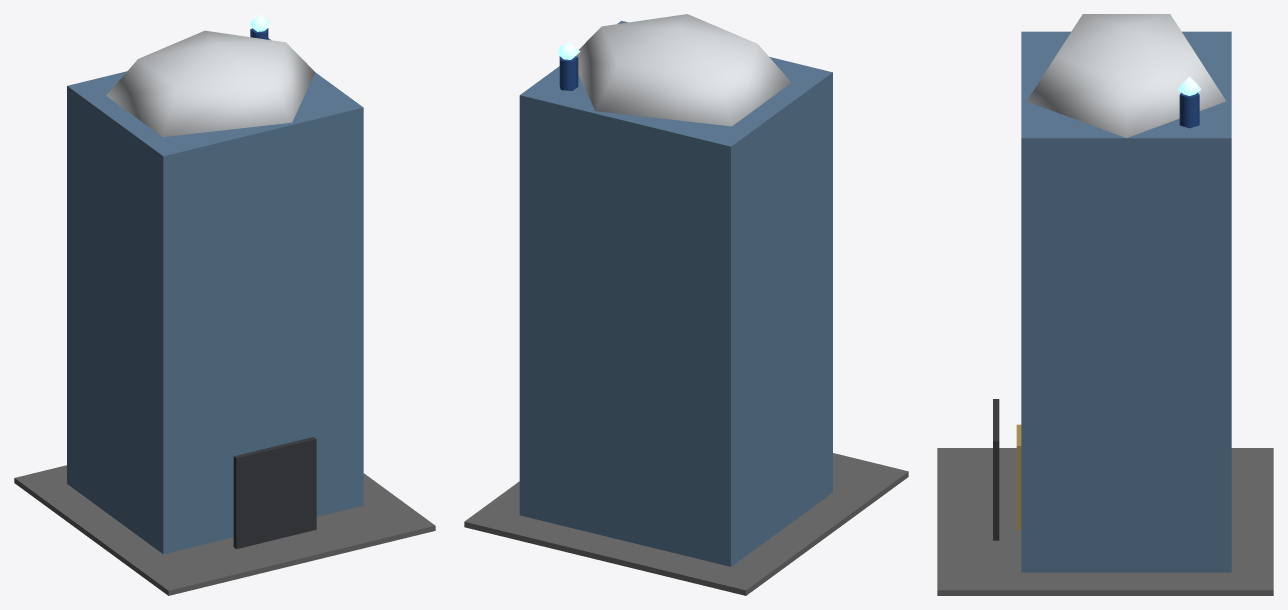
The model's file is bld_special_police_a10_lod2.glb.
3 renders of one model, left to right at view 1: azimuth 30°, elevation 25°; view 2: azimuth 150°, elevation 25°; view 3: azimuth 270°, elevation 25°, orthographic. The views are drawn at different scales.
Parts seen in each view (by area): view 1: body; view 2: body; view 3: body.
Boxes of the visible parts, left/top/right/bottom form: body: left=14, top=14, right=435, bottom=595; body: left=464, top=14, right=908, bottom=595; body: left=937, top=14, right=1273, bottom=595.
Bounding box in the file's own units: 8 × 13.05 × 8.
